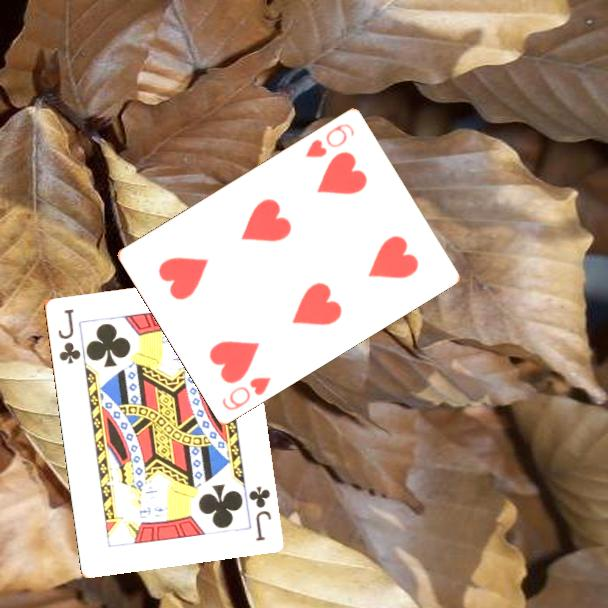c11: (54, 305, 83, 367), (245, 483, 274, 544)
h06: (301, 119, 358, 160), (218, 373, 274, 413)
